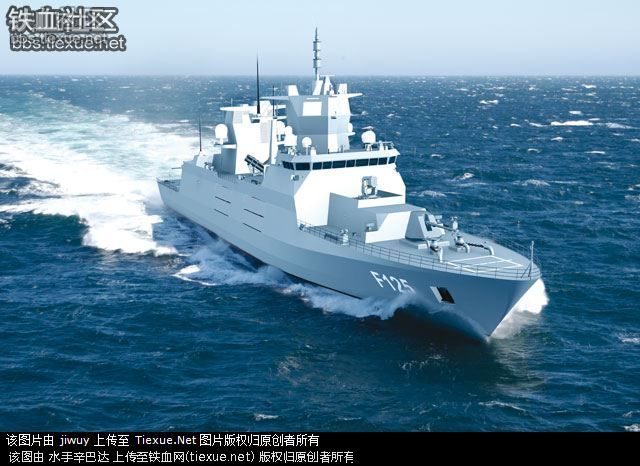warship: (154, 26, 549, 359)
